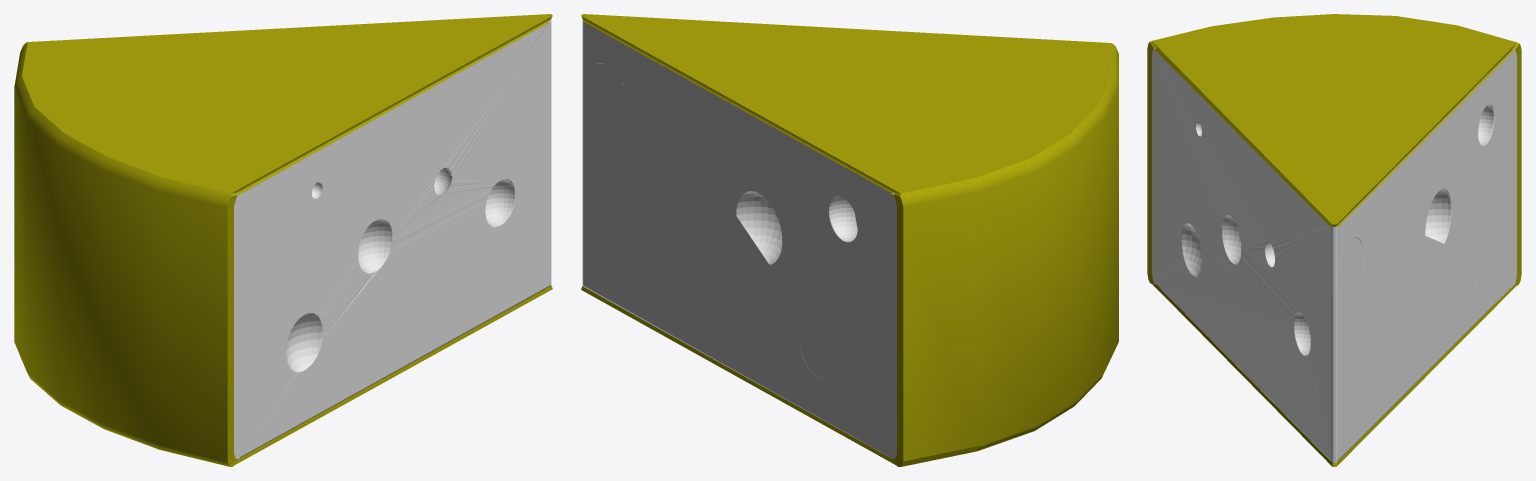
Rendered from cheese.fbx.
3 renders of one model, left to right at view 1: azimuth 30°, elevation 25°; view 2: azimuth 150°, elevation 25°; view 3: azimuth 270°, elevation 25°, orthographic. The views are drawn at different scales.
Parts seen in each view (by area): view 1: Cube, Cube.002, Cube.001; view 2: Cube, Cube.002, Cube.001; view 3: Cube, Cube.001.
Part boxes in pixels (x1,y1,x2,y2): Cube: [234, 19, 551, 458]; Cube.002: [14, 42, 231, 466]; Cube.001: [22, 14, 552, 466]; Cube: [582, 19, 896, 458]; Cube.002: [900, 43, 1118, 461]; Cube.001: [581, 14, 1111, 466]; Cube: [1152, 47, 1517, 462]; Cube.001: [1147, 14, 1521, 466].
Bounding box in the file's own units: 9.7 × 5.13 × 7.18.
